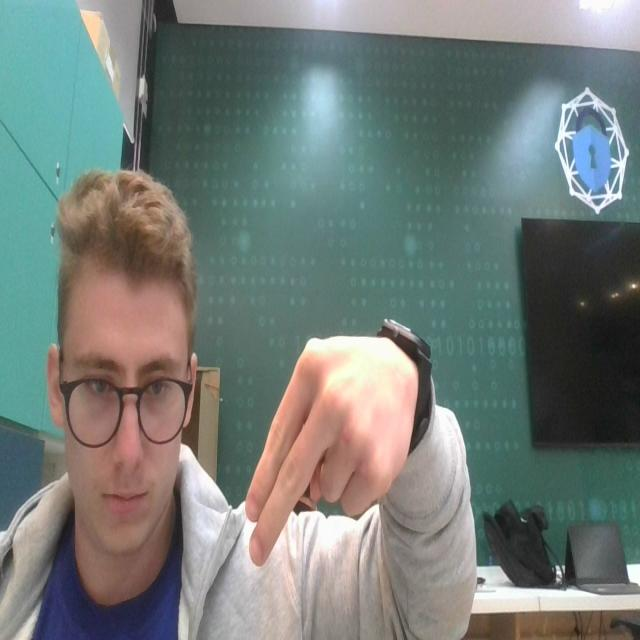N: (239, 313, 416, 572)
